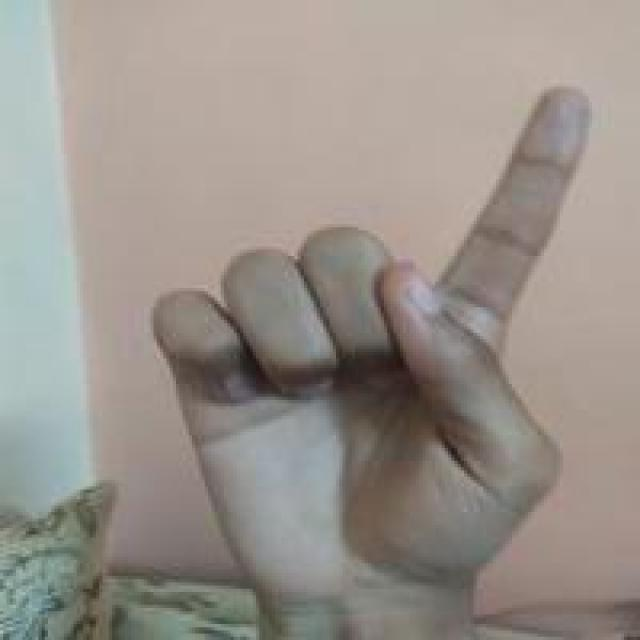Z: (136, 85, 600, 600)
